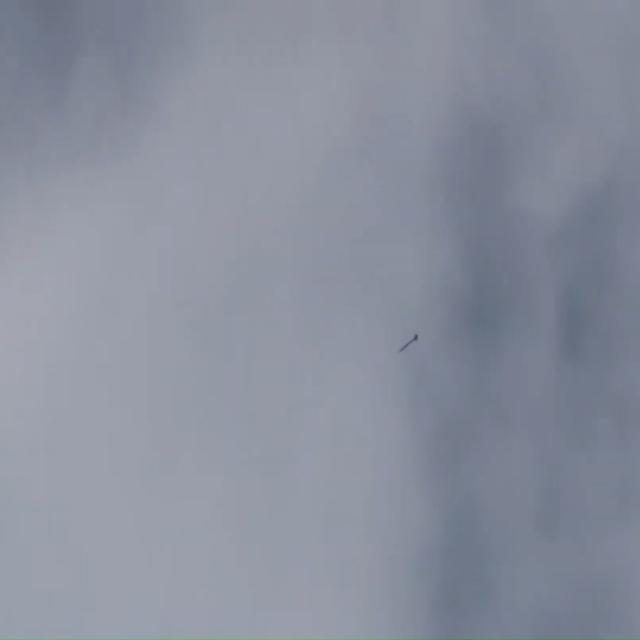Rocket: (397, 332, 419, 354)
